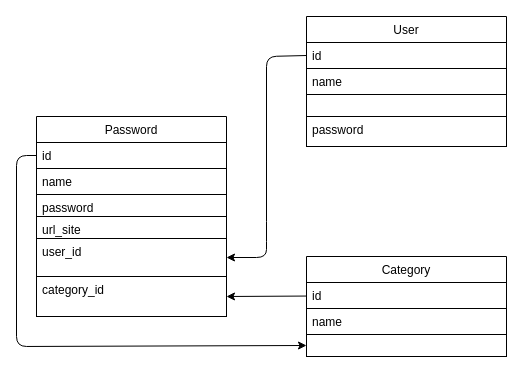
The diagram is 523 pixels wide and 373 high, and some of its shapes have lost their labels. Each missing label, with the centre of its shape:
mail: point 406,105
password_id: point 406,345
